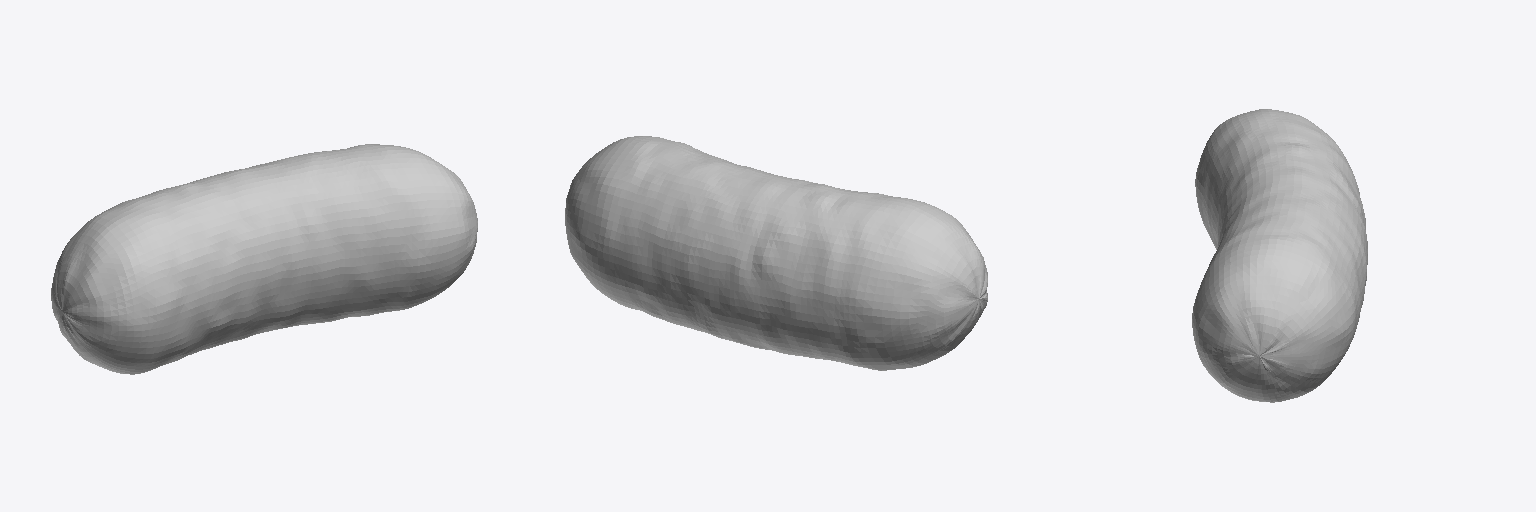
Rendered from eColi.obj.
The picture shows the model from 3 angles: view 1: azimuth 30°, elevation 25°; view 2: azimuth 150°, elevation 25°; view 3: azimuth 270°, elevation 25°; orthographic projection.
Visible parts, largest first — view 1: obj1; view 2: obj1; view 3: obj1.
Boxes of the visible parts, x1=… form: obj1: x1=51, y1=144, x2=477, y2=374; obj1: x1=565, y1=136, x2=987, y2=370; obj1: x1=1192, y1=109, x2=1367, y2=402.
Size of the model in its own units: 4.77 by 1.79 by 1.79.